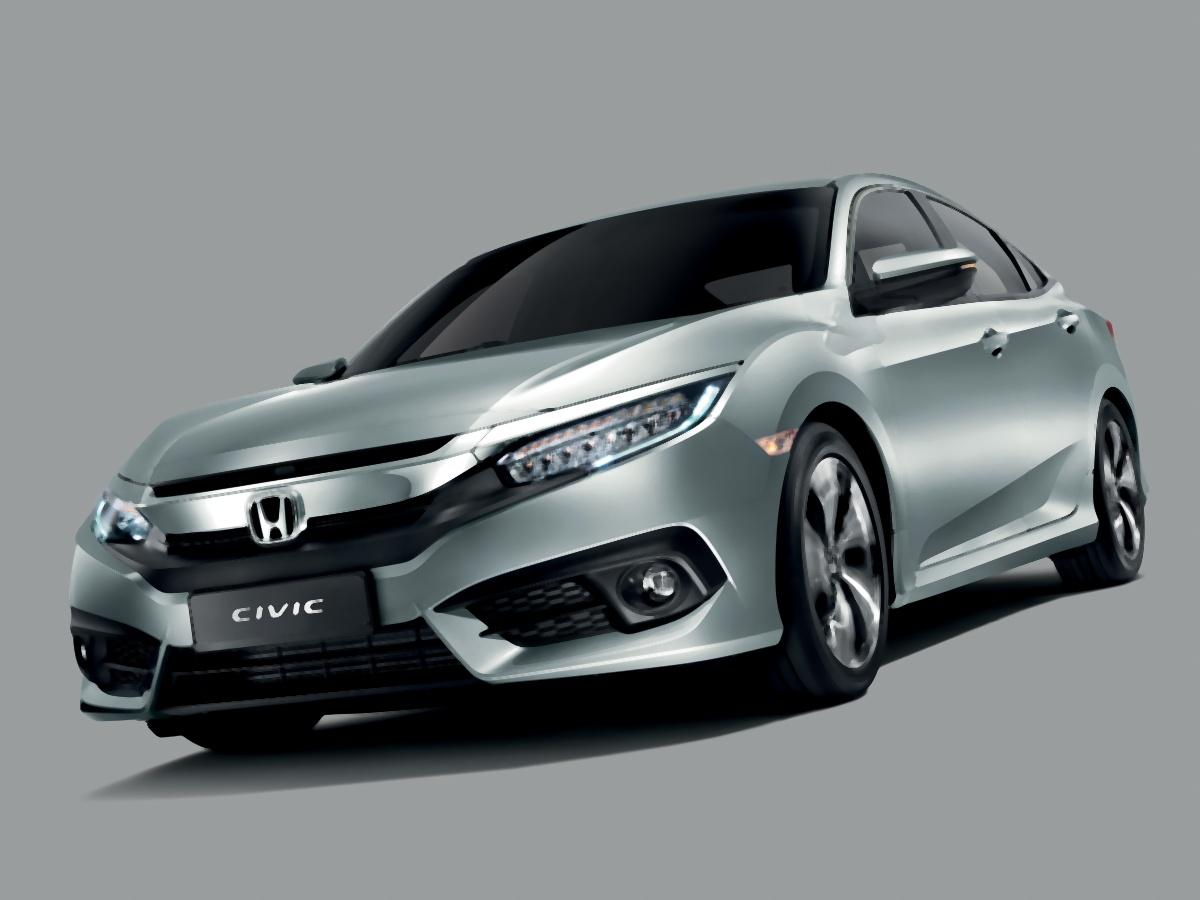Car hood: (110, 290, 830, 481)
Fender - -F-L-: (723, 253, 895, 574)
Fender - -R-L-: (1027, 266, 1135, 470)
Front bumper: (58, 412, 786, 719)
Headlight - -L-: (491, 366, 736, 512)
Headlight - -R-: (83, 483, 171, 566)
Passenger-s door - -F-L-: (807, 160, 1033, 626)
Passenger-s door - -R-L-: (904, 163, 1094, 571)
Side bumper - -L-: (878, 427, 1117, 679)
Side mirror - -L-: (846, 242, 994, 333)
